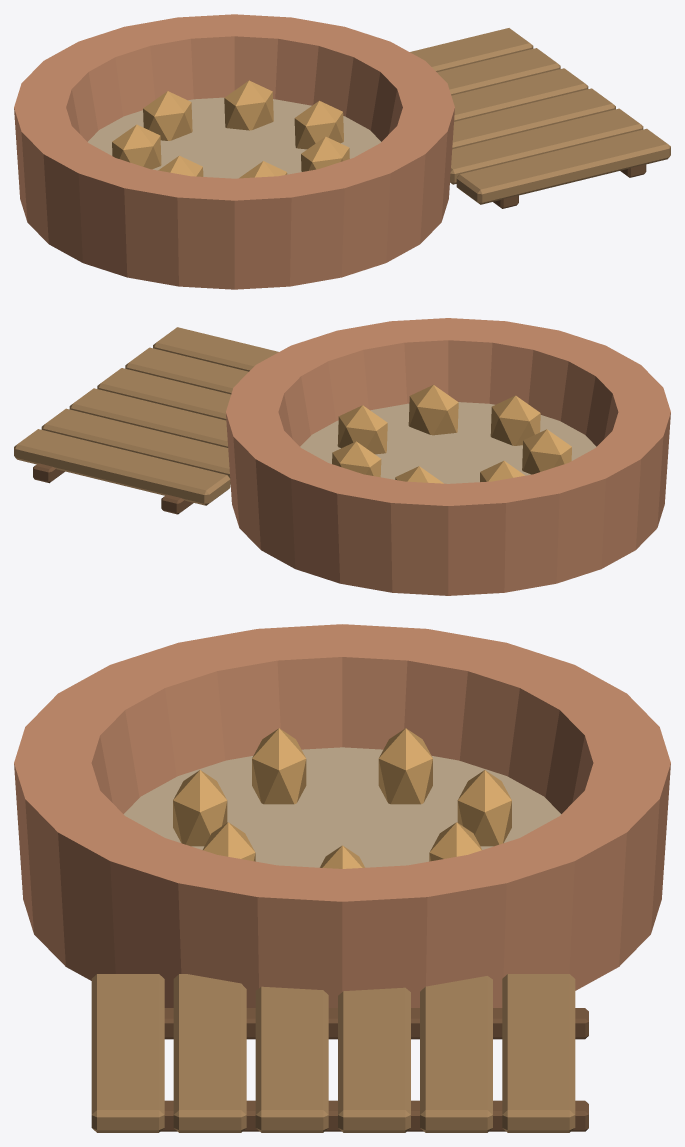
3 views of the same model, one above another, from view 1: azimuth 30°, elevation 25°; view 2: azimuth 150°, elevation 25°; view 3: azimuth 270°, elevation 25° (orthographic). The views are drawn at different scales.
Parts seen in each view (by area): view 1: GF-026 Sand packed root storage pit batched; view 2: GF-026 Sand packed root storage pit batched; view 3: GF-026 Sand packed root storage pit batched.
Boxes of the visible parts, left/top/right/bottom form: GF-026 Sand packed root storage pit batched: left=14, top=14, right=670, bottom=289; GF-026 Sand packed root storage pit batched: left=14, top=318, right=670, bottom=595; GF-026 Sand packed root storage pit batched: left=14, top=624, right=670, bottom=1132.
Size of the model in its own units: 2.06 by 0.33 by 1.44.
